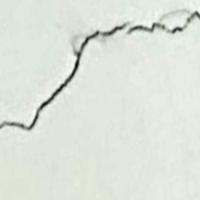crack: (0, 7, 199, 141)
